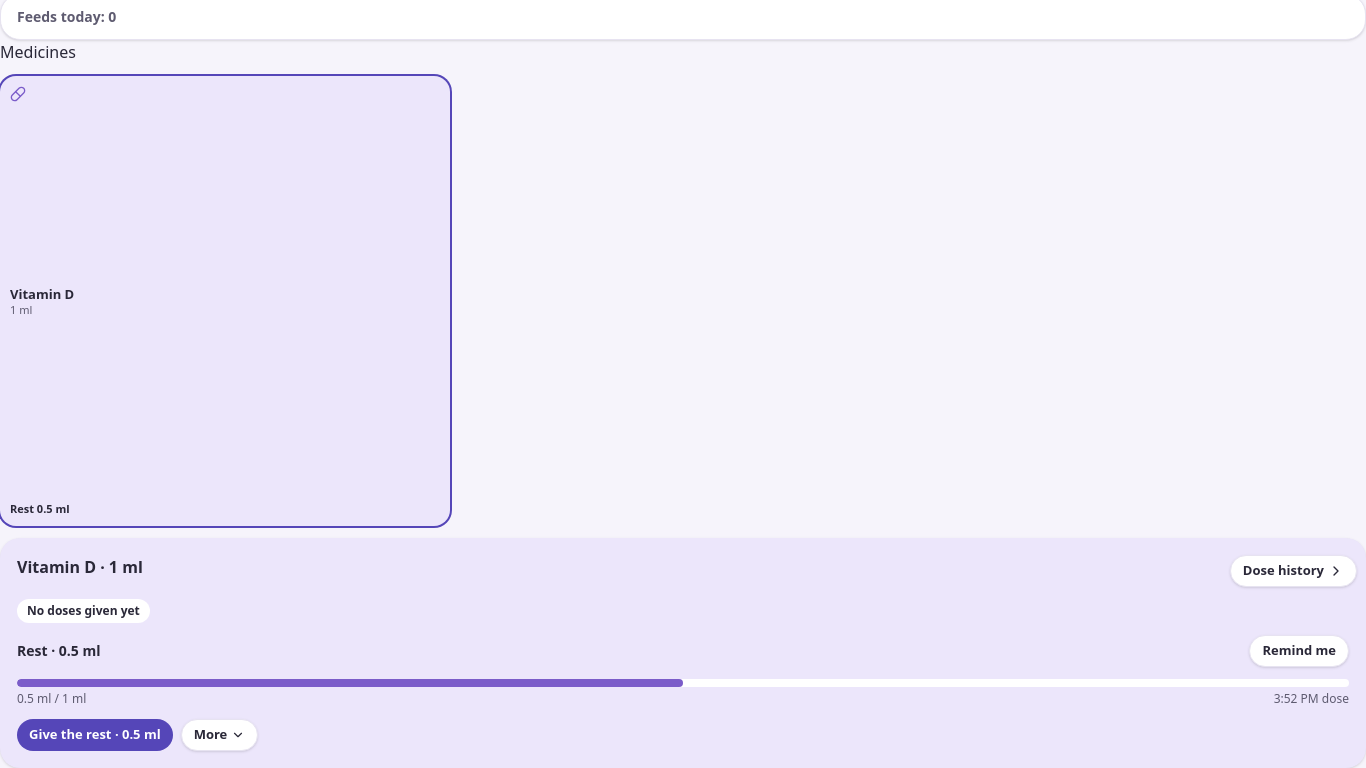
Test case: Remind me opens the choice of when to be reminded about the rest
(page scrolled)
Click the button "Remind me" at point(1299, 651), box [1249,635,1349,667]
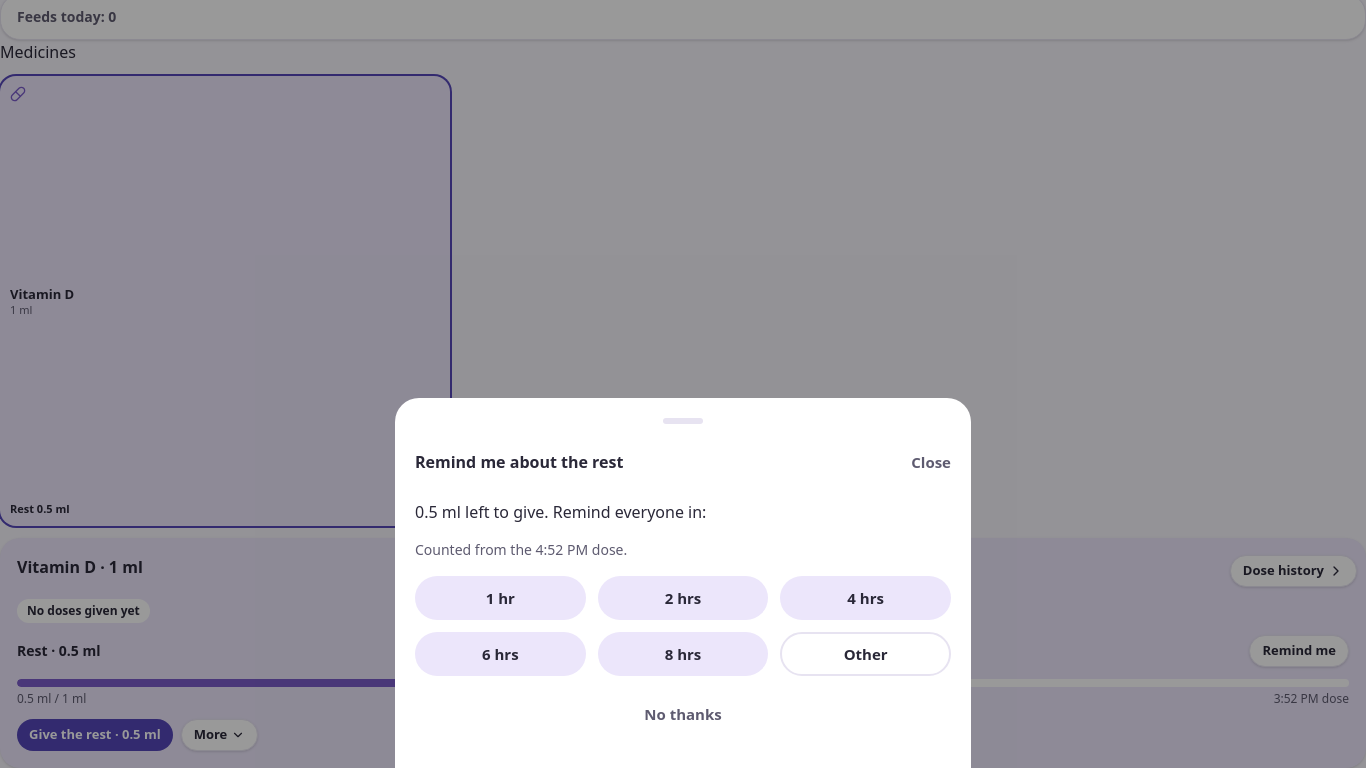
Check: the dialog "Remind me about the rest" is shown, box [395,398,971,767]
